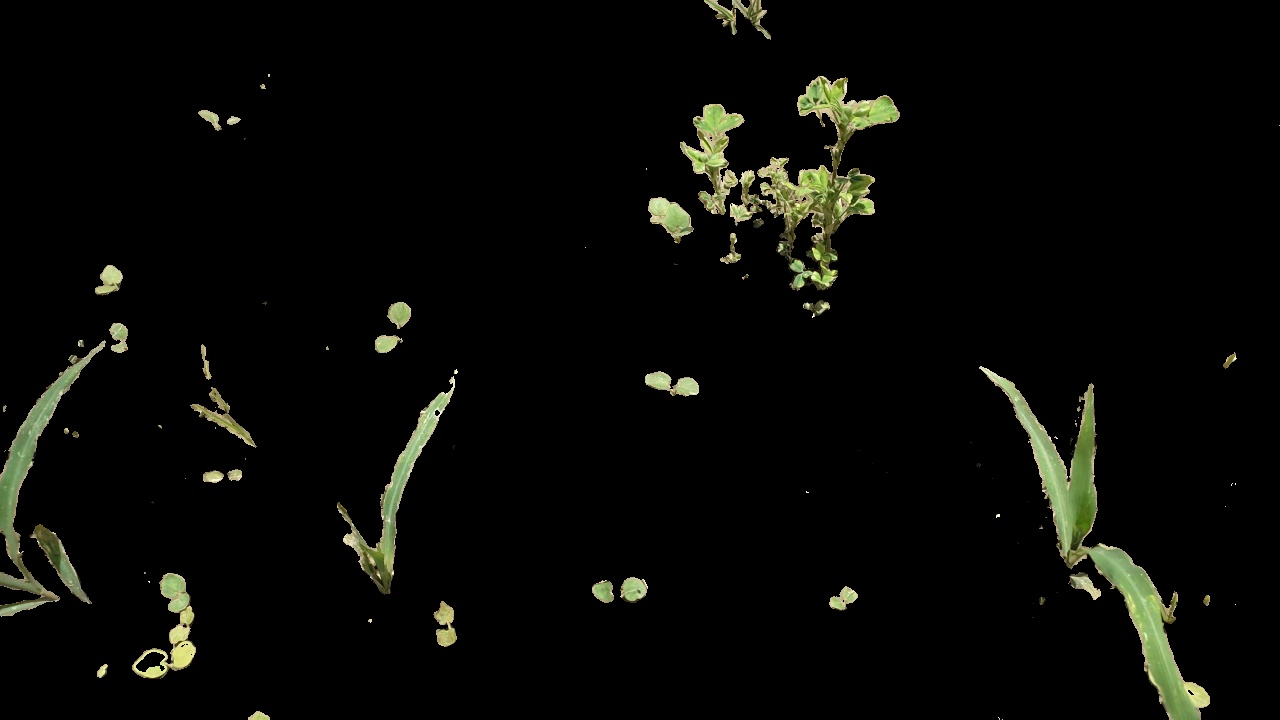crop: (981, 363, 1202, 720), (330, 372, 459, 597), (5, 343, 100, 620)
weed: (634, 91, 910, 311), (127, 568, 211, 676), (581, 565, 656, 609), (373, 298, 410, 359), (642, 363, 700, 401), (193, 102, 246, 133), (431, 604, 460, 652), (92, 257, 121, 301), (820, 581, 859, 613), (110, 315, 134, 357)
